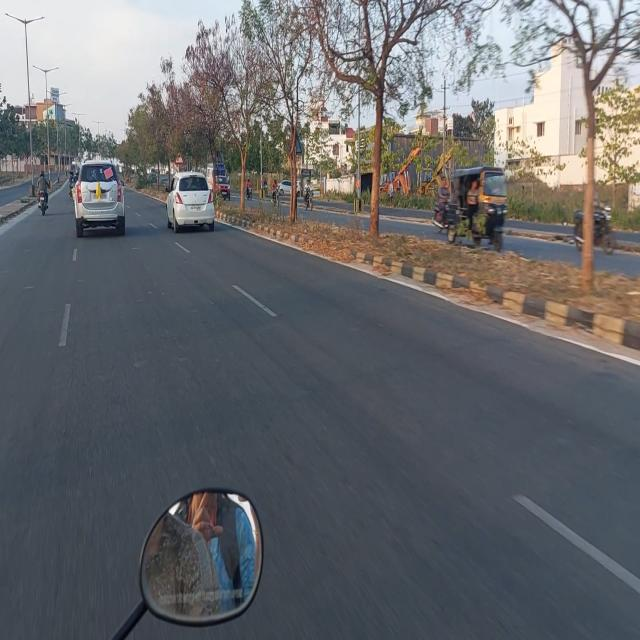bien_cam: (174, 151, 184, 164)
